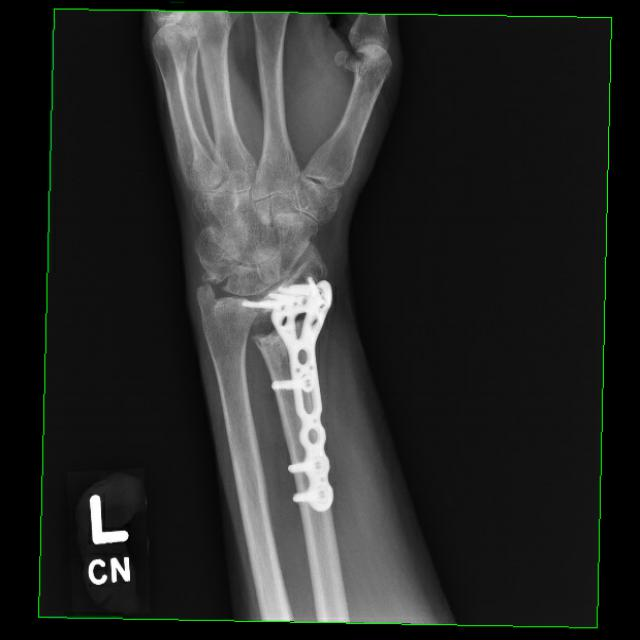x-ray: (236, 270, 354, 516)
